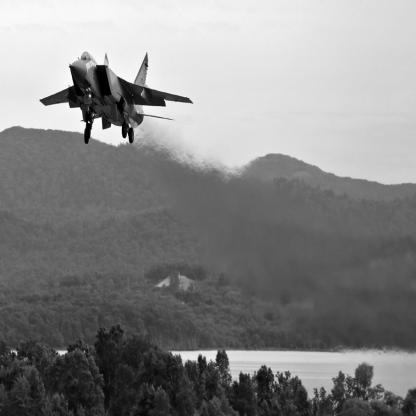Mig31: (40, 52, 195, 145)
